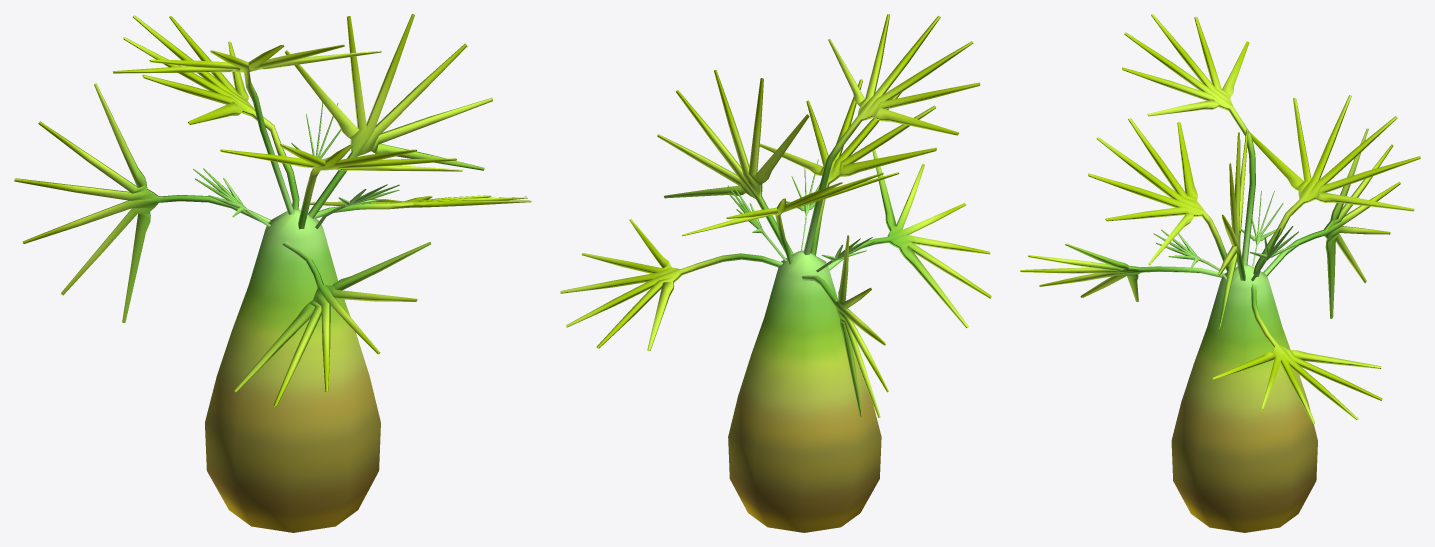
The model's file is Palm_frawn1.fbx.
3 views of the same model, side by side, from view 1: azimuth 30°, elevation 25°; view 2: azimuth 150°, elevation 25°; view 3: azimuth 270°, elevation 25° (orthographic). The views are drawn at different scales.
Visible parts, largest first — view 1: Tree_Large; view 2: Tree_Large; view 3: Tree_Large.
Boxes of the visible parts, x1=… form: Tree_Large: x1=14, y1=14, x2=531, y2=532; Tree_Large: x1=560, y1=14, x2=991, y2=532; Tree_Large: x1=1020, y1=14, x2=1420, y2=532.
Bounding box in the file's own units: 1.46 × 1.73 × 1.41.
